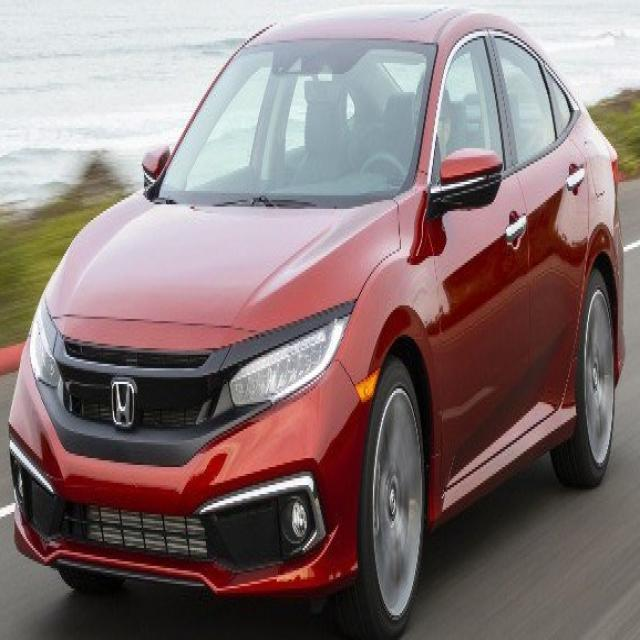maroon: (13, 15, 626, 579)
